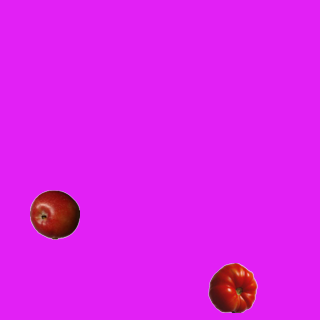Apple Braeburn: (29, 189, 79, 239)
Tomato 3: (207, 262, 257, 312)
